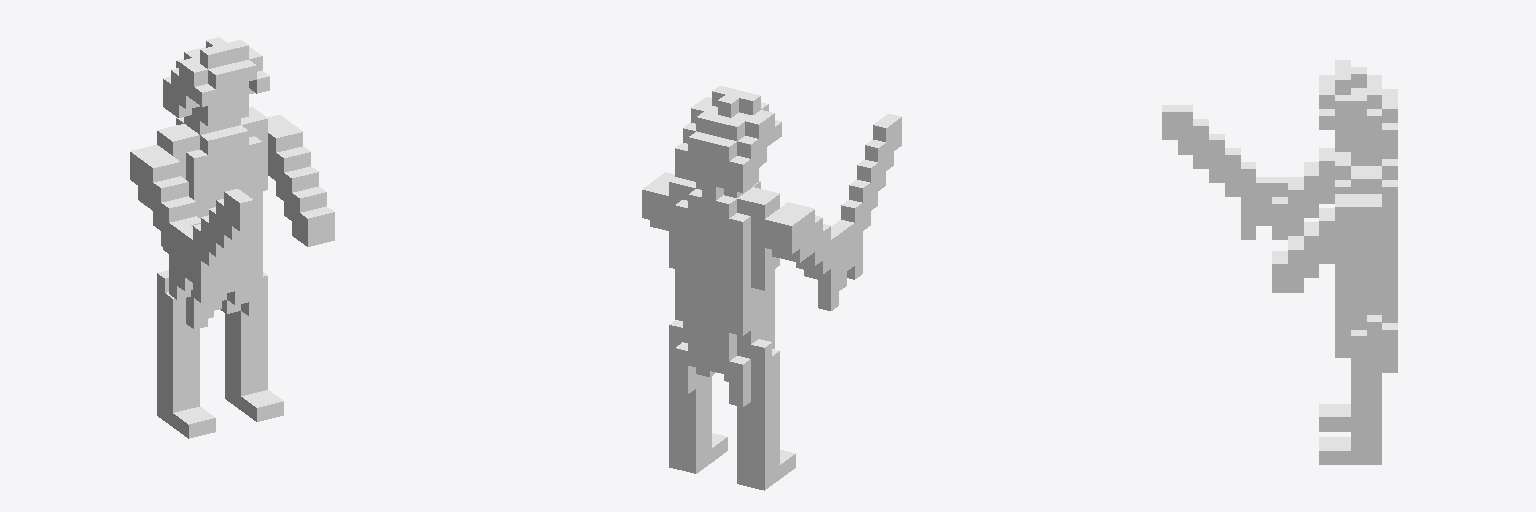
Rendered from Knite.obj.
3 views of the same model, side by side, from view 1: azimuth 30°, elevation 25°; view 2: azimuth 150°, elevation 25°; view 3: azimuth 270°, elevation 25° (orthographic).
Visible parts, largest first — view 1: object 1; view 2: object 1; view 3: object 1.
Part boxes in pixels (bbox=[...]): object 1: bbox=[130, 37, 334, 438]; object 1: bbox=[642, 86, 901, 490]; object 1: bbox=[1162, 60, 1397, 464].
Size of the model in its own units: 1.1 by 2.6 by 1.5.